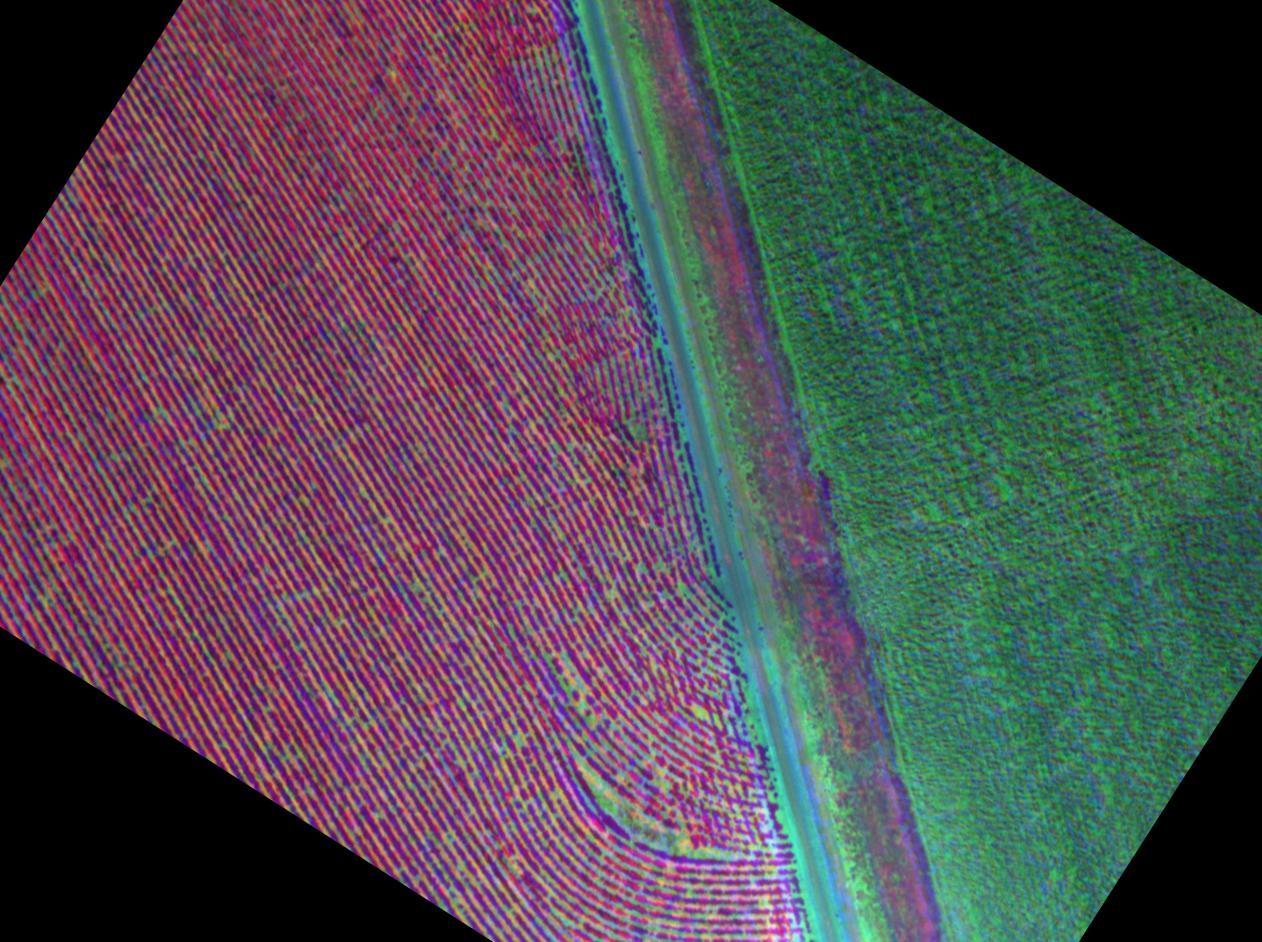dc: (563, 733, 748, 863), (448, 700, 528, 791), (536, 655, 620, 724), (629, 559, 698, 620), (142, 393, 219, 428)
